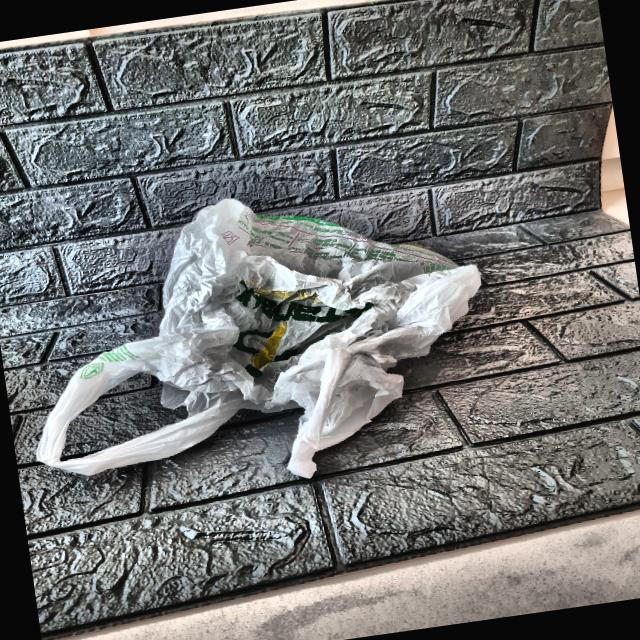plastic bag: (6, 161, 516, 516)
